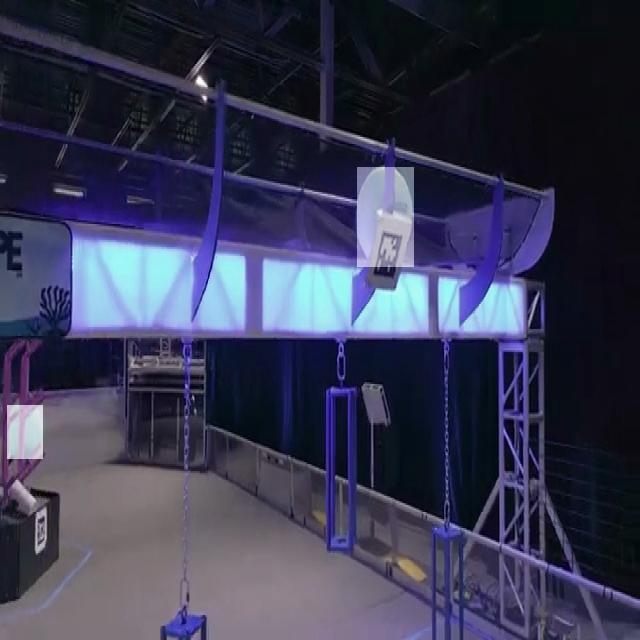Algae: (357, 167, 414, 267), (7, 405, 43, 459)
